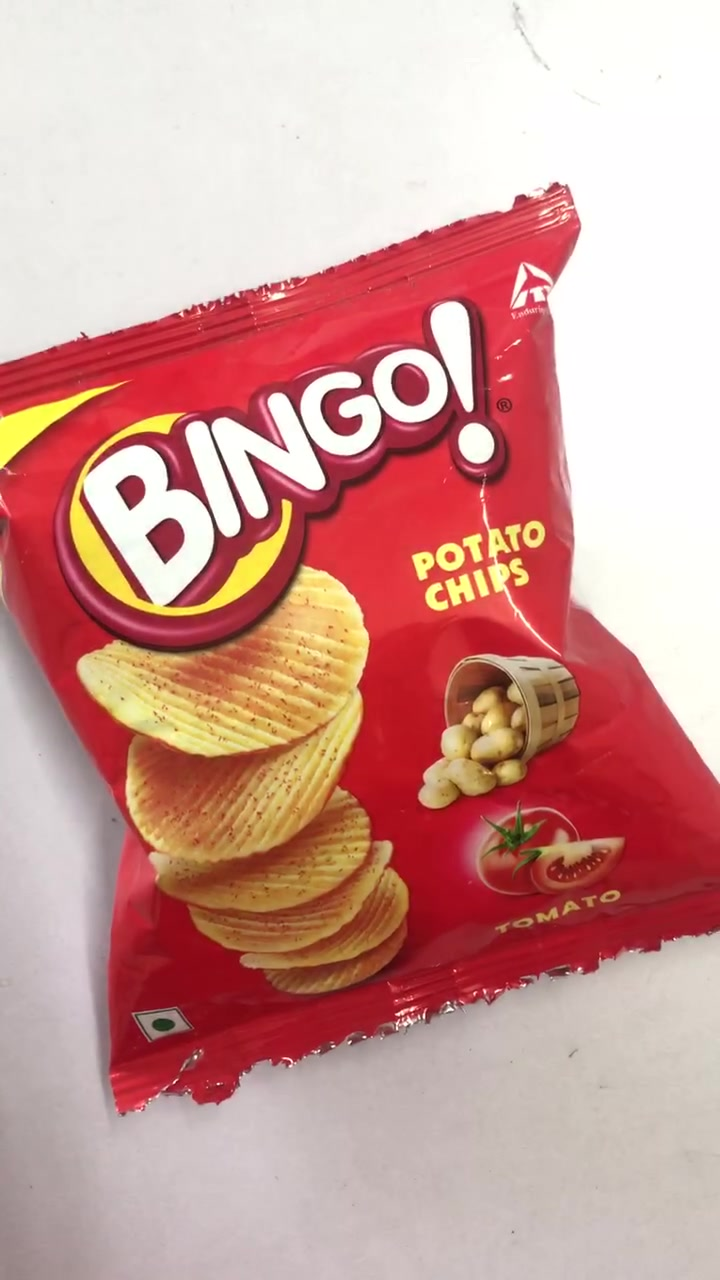Bingo: (2, 199, 717, 1103)
